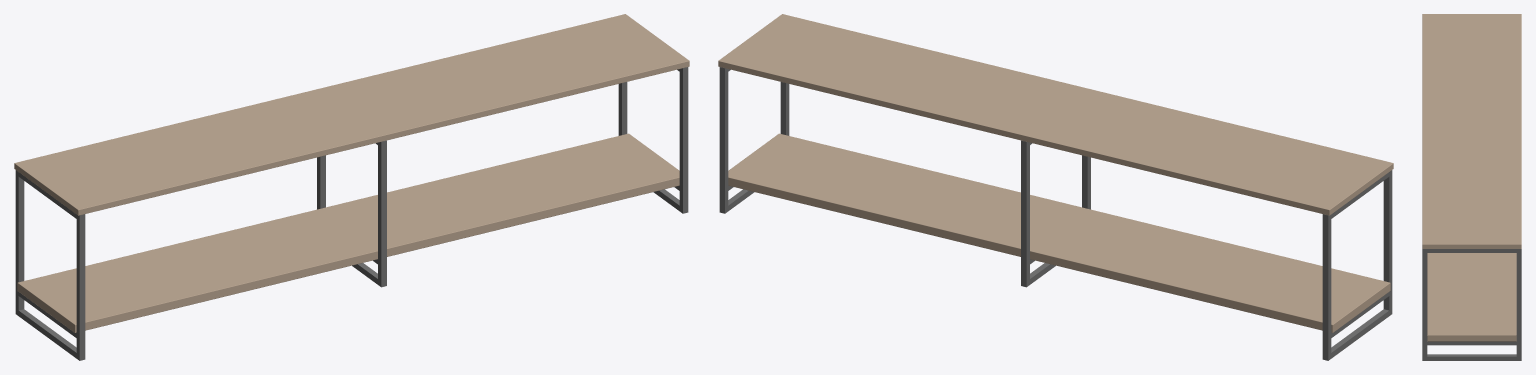
The model's file is aparador-sercial.glb.
3 renders of one model, left to right at view 1: azimuth 30°, elevation 25°; view 2: azimuth 150°, elevation 25°; view 3: azimuth 270°, elevation 25°, orthographic. The views are drawn at different scales.
Size of the model in its own units: 2.2 by 0.5199 by 0.3999.
